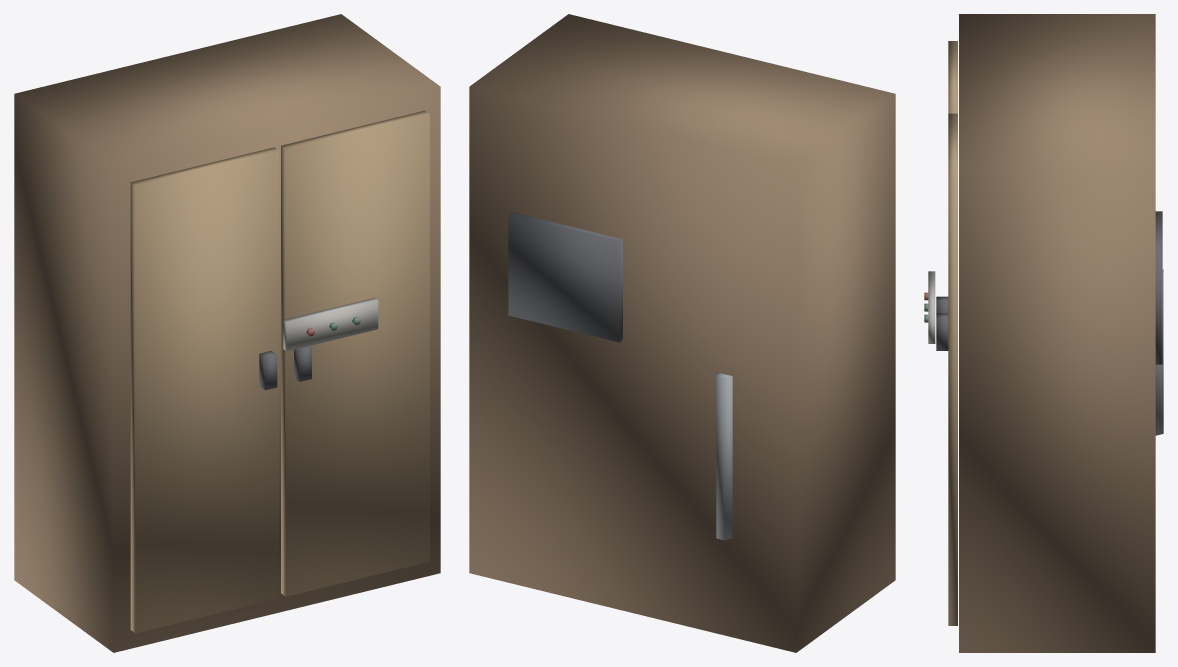
Rendered from map_cabinet__service.glb.
3 views of the same model, side by side, from view 1: azimuth 30°, elevation 25°; view 2: azimuth 150°, elevation 25°; view 3: azimuth 270°, elevation 25° (orthographic).
Parts seen in each view (by area): view 1: world; view 2: world; view 3: world.
Part boxes in pixels (bbox=[...]): world: bbox=[14, 14, 440, 652]; world: bbox=[469, 14, 895, 652]; world: bbox=[924, 14, 1163, 652].
Bounding box in the file's own units: 0.95 × 1.35 × 0.6091.
